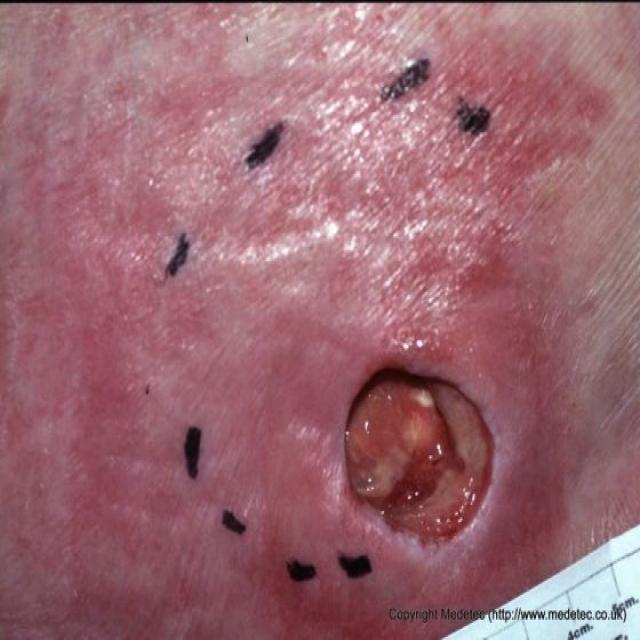stage-3: (345, 370, 491, 542)
